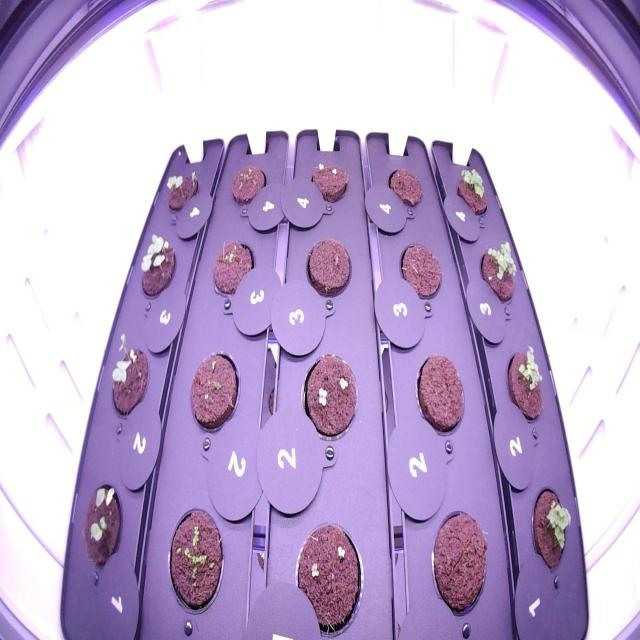germination: (288, 516, 369, 636), (160, 497, 230, 621), (296, 348, 362, 449), (181, 342, 242, 444), (78, 476, 129, 582), (103, 328, 154, 427), (529, 479, 574, 586), (207, 233, 260, 310), (135, 228, 183, 312), (504, 337, 546, 433), (477, 234, 522, 314), (305, 155, 353, 213), (160, 164, 205, 222), (226, 156, 268, 214), (454, 159, 491, 217)
pod: (424, 504, 494, 623), (410, 346, 468, 443), (300, 232, 356, 307), (394, 238, 446, 304), (382, 161, 427, 218)
